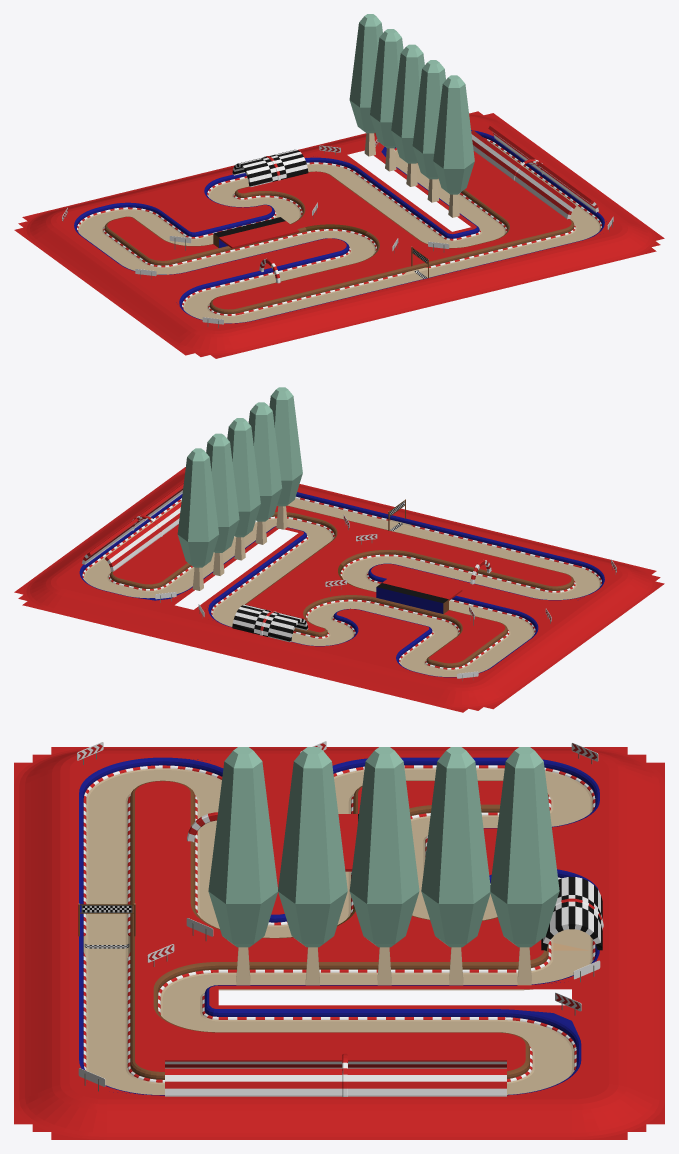
Rendered from track_2.glb.
3 renders of one model, top to bottom at view 1: azimuth 30°, elevation 25°; view 2: azimuth 150°, elevation 25°; view 3: azimuth 270°, elevation 25°, orthographic. The views are drawn at different scales.
Parts seen in each view (by area): view 1: mergedBlocks(Clone), treeLarge(Clone).003, treeLarge(Clone).001, treeLarge(Clone).005, treeLarge(Clone).002, treeLarge(Clone).004; view 2: mergedBlocks(Clone), treeLarge(Clone).004, treeLarge(Clone).002, treeLarge(Clone).001, treeLarge(Clone).003, treeLarge(Clone).005; view 3: mergedBlocks(Clone), treeLarge(Clone).005, treeLarge(Clone).001, treeLarge(Clone).002, treeLarge(Clone).003, treeLarge(Clone).004.
Part boxes in pixels (x1=…): mergedBlocks(Clone): x1=14, y1=111, x2=664, y2=358; treeLarge(Clone).003: x1=433, y1=75, x2=474, y2=217; treeLarge(Clone).001: x1=391, y1=44, x2=424, y2=186; treeLarge(Clone).005: x1=370, y1=29, x2=403, y2=171; treeLarge(Clone).002: x1=412, y1=60, x2=445, y2=202; treeLarge(Clone).004: x1=349, y1=14, x2=382, y2=156; mergedBlocks(Clone): x1=14, y1=467, x2=664, y2=712; treeLarge(Clone).004: x1=177, y1=448, x2=219, y2=590; treeLarge(Clone).002: x1=248, y1=402, x2=282, y2=544; treeLarge(Clone).001: x1=227, y1=418, x2=260, y2=560; treeLarge(Clone).003: x1=269, y1=387, x2=302, y2=529; treeLarge(Clone).005: x1=206, y1=433, x2=239, y2=575; mergedBlocks(Clone): x1=14, y1=741, x2=664, y2=1139; treeLarge(Clone).005: x1=421, y1=747, x2=490, y2=985; treeLarge(Clone).001: x1=349, y1=747, x2=419, y2=985; treeLarge(Clone).002: x1=278, y1=747, x2=347, y2=985; treeLarge(Clone).003: x1=208, y1=747, x2=277, y2=985; treeLarge(Clone).004: x1=490, y1=747, x2=559, y2=985.
Bounding box in the file's own units: 50 × 15.62 × 35.
